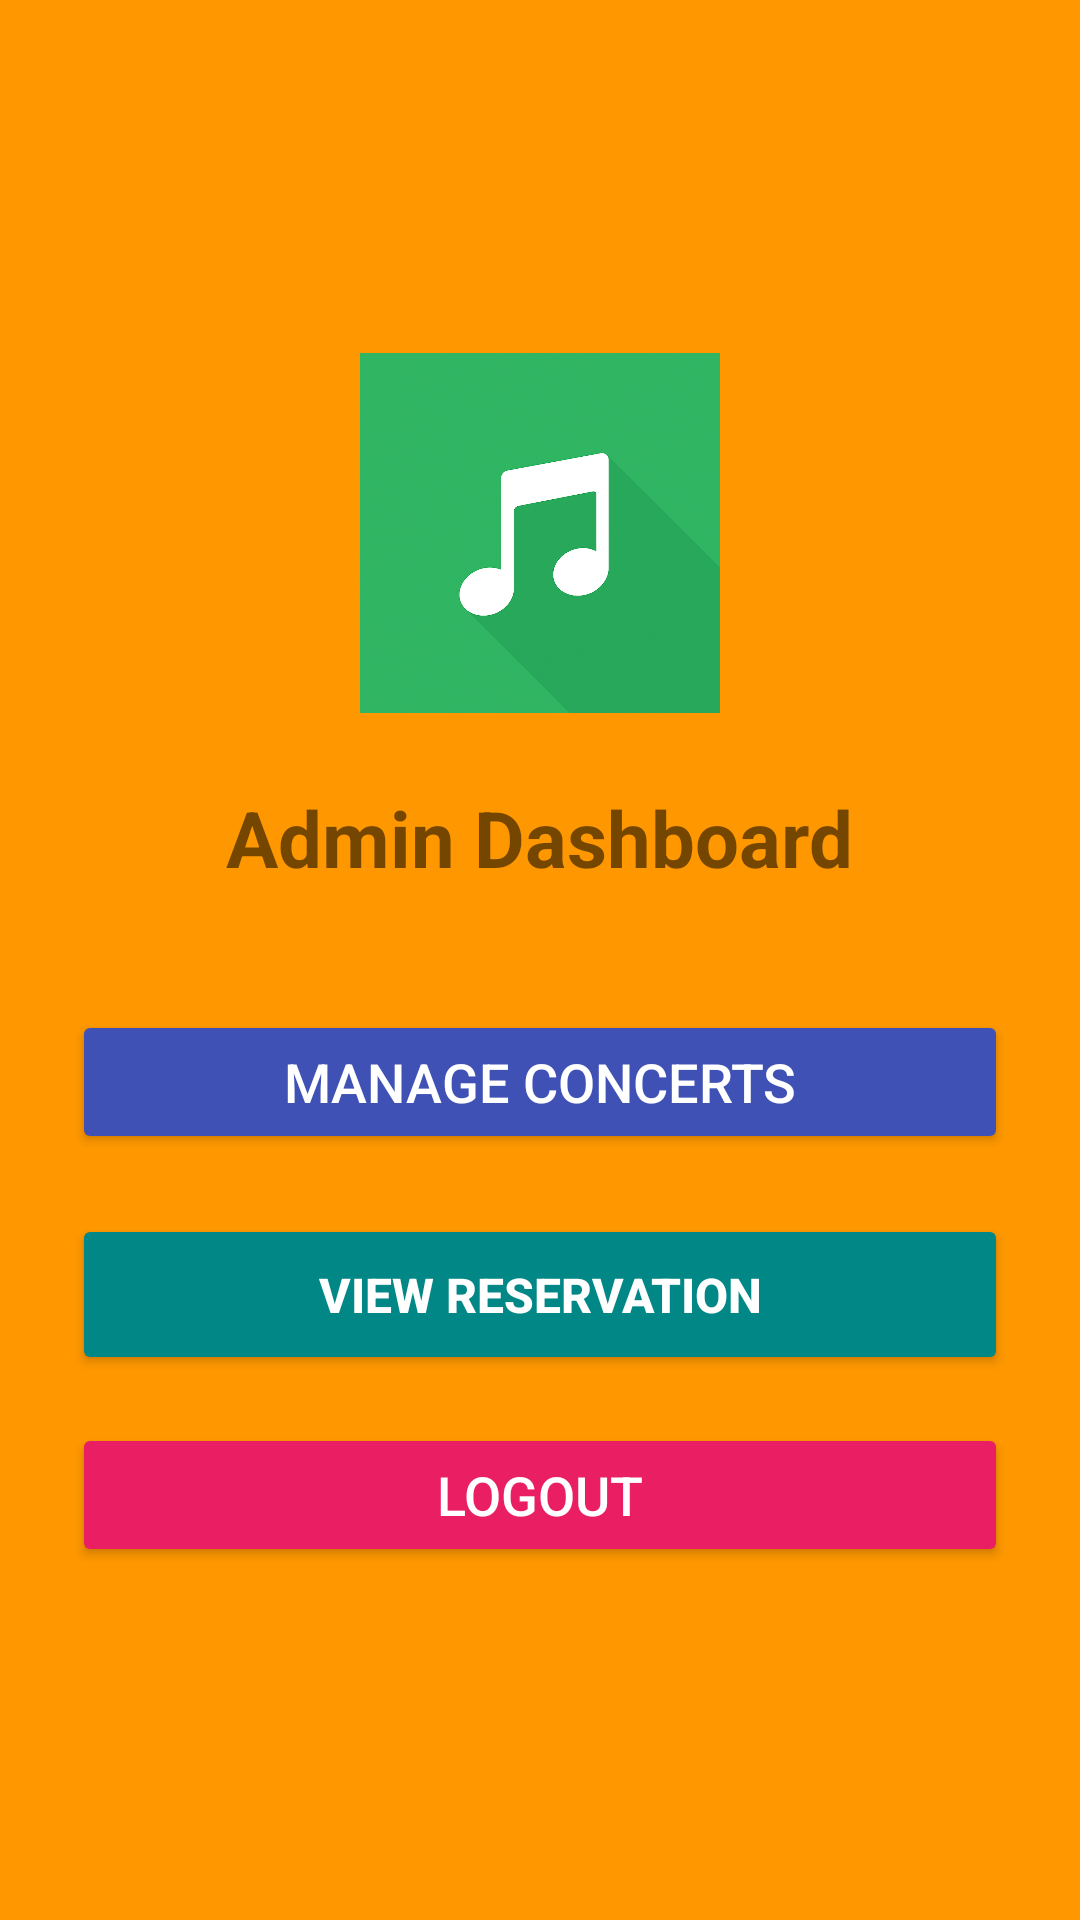

Icon bounding boxes for this 1080w x 1920h phone screenshot, format (x1=x1, y1=y1, x2=x2, y2=y2):
concert: (x1=360, y1=353, x2=720, y2=713)
